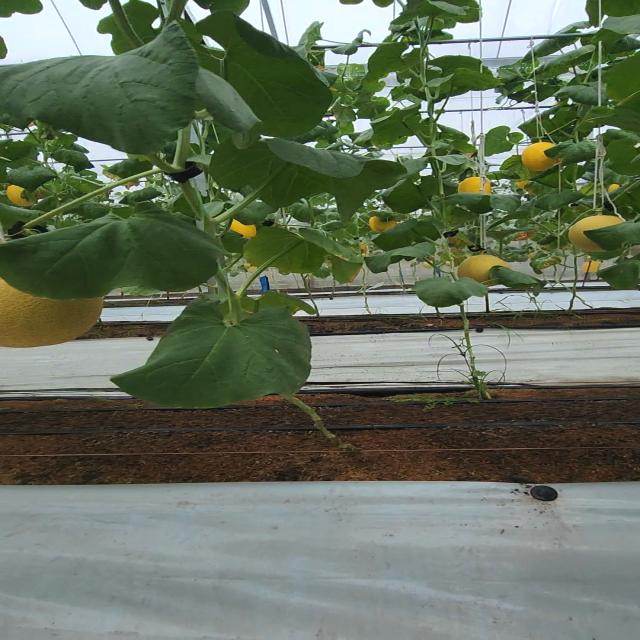Melon: (0, 277, 113, 353)
